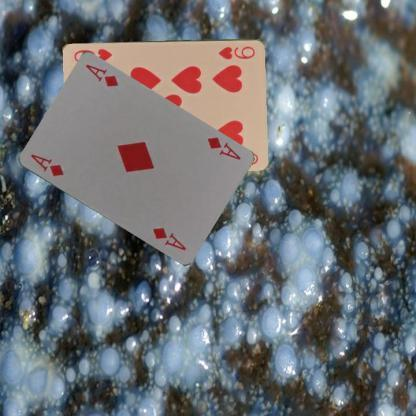9h: (216, 43, 256, 61)
Ad: (204, 134, 242, 161), (27, 151, 64, 178)
